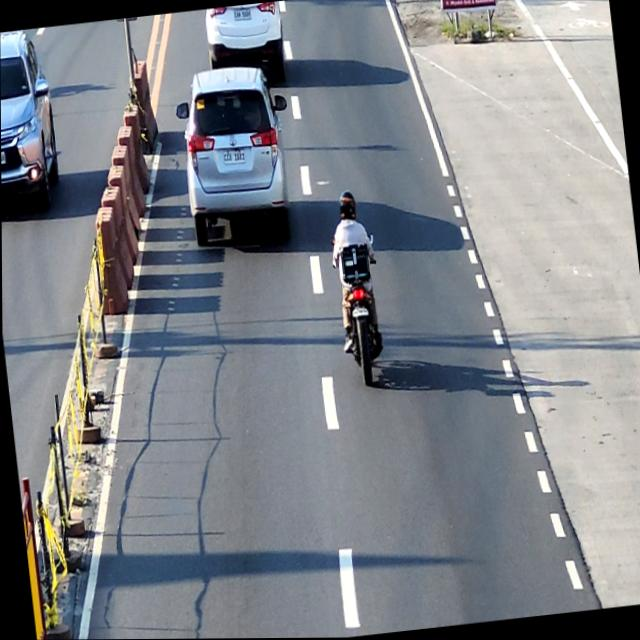Car: (172, 61, 301, 250), (0, 27, 63, 217), (203, 1, 285, 73)
License-Plate: (221, 148, 245, 165), (234, 8, 252, 22), (350, 306, 367, 317)
Motorcycle: (330, 230, 390, 390)
